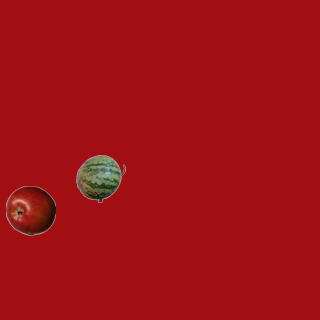Apple Braeburn: (5, 185, 55, 235)
Watermelon: (75, 153, 125, 203)
